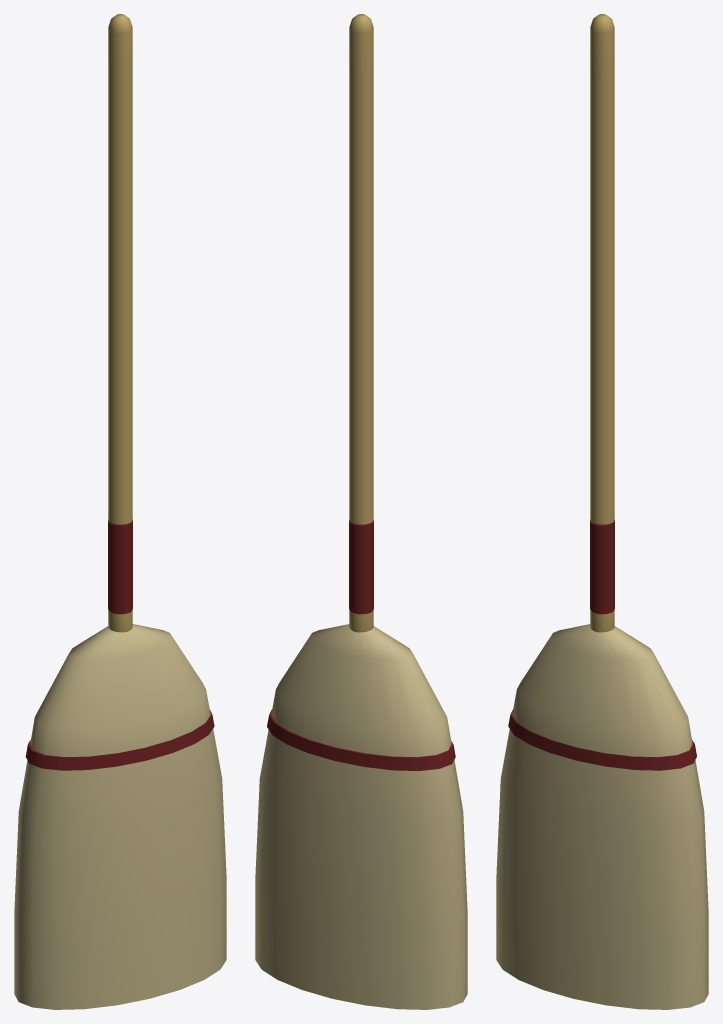
File: ITM_Broom_v02.fbx
3 views of the same model, side by side, from view 1: azimuth 30°, elevation 25°; view 2: azimuth 150°, elevation 25°; view 3: azimuth 330°, elevation 25° (orthographic).
Parts seen in each view (by area): view 1: itm_broom; view 2: itm_broom; view 3: itm_broom.
Part boxes in pixels (left/top/right/bottom): itm_broom: left=14, top=14, right=226, bottom=1009; itm_broom: left=255, top=14, right=467, bottom=1009; itm_broom: left=496, top=14, right=708, bottom=1009.
Bounding box in the file's own units: 12 × 54.05 × 6.
